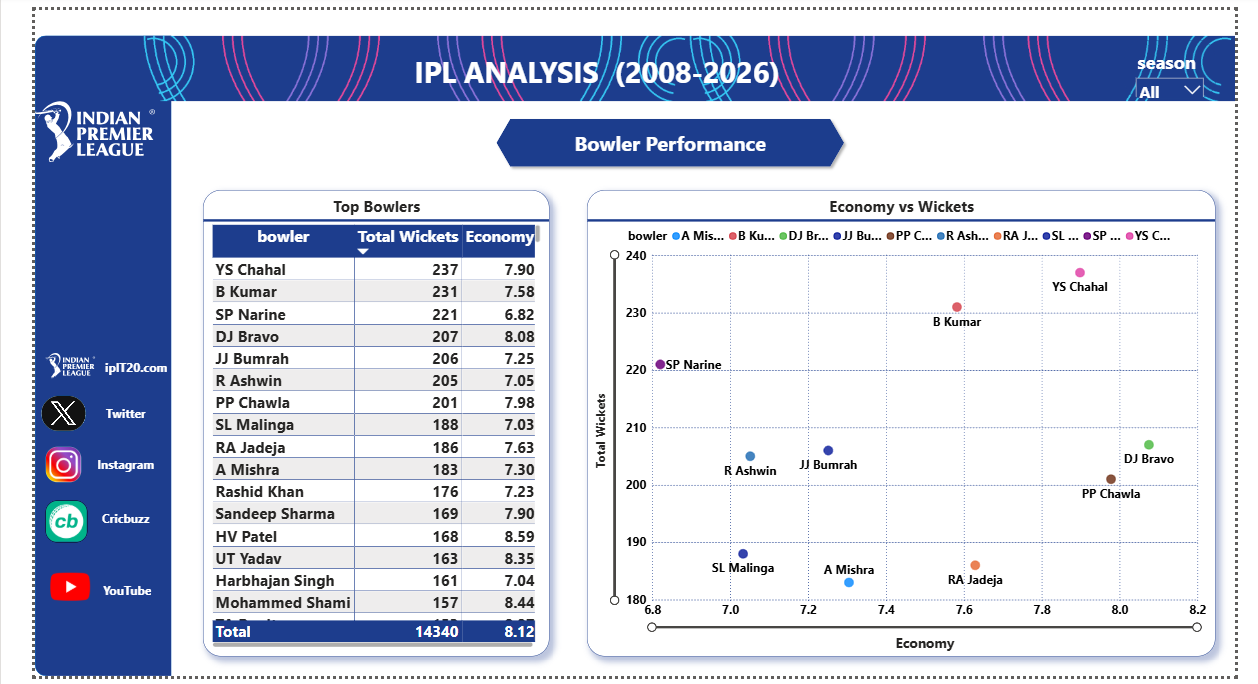

The dashboard page shown, as its layout file describes it:
{"tool":"powerbi","page":{"name":"Bowlers Performance","canvas":[2000,1110],"ordinal":2},"visuals":[{"type":"shape","box":[0,42.5,227.5,1067.5],"z":0},{"type":"image","box":[1090,42.5,910,110],"z":1000},{"type":"image","box":[180,42.5,910,110],"z":2000},{"type":"textbox","box":[627.5,65,730,80],"z":3000},{"type":"slicer","fields":{"Values":["ipl_db matches.season"]},"box":[1815,50,152.5,97.5],"z":4000},{"type":"image","box":[0,105,200,195],"z":5000},{"type":"actionButton","box":[110,565,117.5,60],"z":6000},{"type":"image","box":[17.5,565,82.5,55],"z":7000},{"type":"actionButton","box":[92.5,642.5,117.5,60],"z":8000},{"type":"image","box":[10,642.5,75,60],"z":9000},{"type":"actionButton","box":[92.5,727.5,117.5,60],"z":10000},{"type":"image","box":[17.5,727.5,60,60],"z":11000},{"type":"actionButton","box":[92.5,817.5,117.5,60],"z":12000},{"type":"image","box":[17.5,817.5,70,70],"z":13000},{"type":"actionButton","box":[105,942.5,97.5,47.5],"z":14000},{"type":"image","box":[25,932.5,67.5,57.5],"z":15000},{"type":"tableEx","title":"Top Bowlers","fields":{"Values":["ipl_db deliveries.bowler","ipl_db deliveries.Total Wickets","ipl_db deliveries.Economy"]},"box":[280,300,577.5,777.5],"z":16000},{"type":"scatterChart","title":"Economy vs Wickets","fields":{"X":["ipl_db deliveries.Economy"],"Y":["ipl_db deliveries.Total Wickets"],"Series":["ipl_db deliveries.bowler"]},"box":[920,300,1047.5,777.5],"z":17000},{"type":"shape","box":[760,172.5,597.5,97.5],"z":18000}]}

Visuals, with their boxes in screenshot pixels (x1, y1, x2, y2), scaled from the page's 2000x1110 canvas onto the 1258x684 screenshot:
shape: (left=0, top=26, right=143, bottom=683)
image: (left=686, top=26, right=1257, bottom=94)
image: (left=113, top=26, right=686, bottom=94)
textbox: (left=395, top=40, right=854, bottom=89)
slicer - ipl_db matches.season: (left=1142, top=31, right=1238, bottom=91)
image: (left=0, top=65, right=126, bottom=185)
actionButton: (left=69, top=348, right=143, bottom=385)
image: (left=11, top=348, right=63, bottom=382)
actionButton: (left=58, top=396, right=132, bottom=433)
image: (left=6, top=396, right=53, bottom=433)
actionButton: (left=58, top=448, right=132, bottom=485)
image: (left=11, top=448, right=49, bottom=485)
actionButton: (left=58, top=504, right=132, bottom=541)
image: (left=11, top=504, right=55, bottom=547)
actionButton: (left=66, top=581, right=127, bottom=610)
image: (left=16, top=575, right=58, bottom=610)
"Top Bowlers" tableEx: (left=176, top=185, right=539, bottom=664)
"Economy vs Wickets" scatterChart: (left=579, top=185, right=1238, bottom=664)
shape: (left=478, top=106, right=854, bottom=166)
